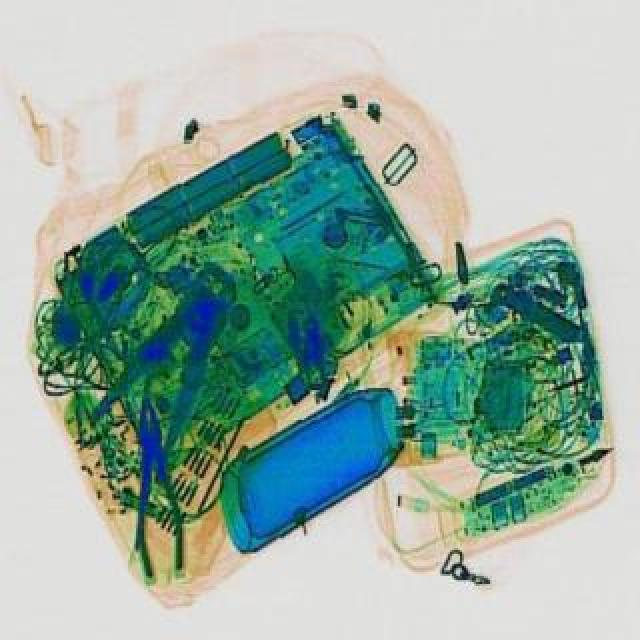wrench: (78, 246, 264, 468), (120, 396, 186, 576)
